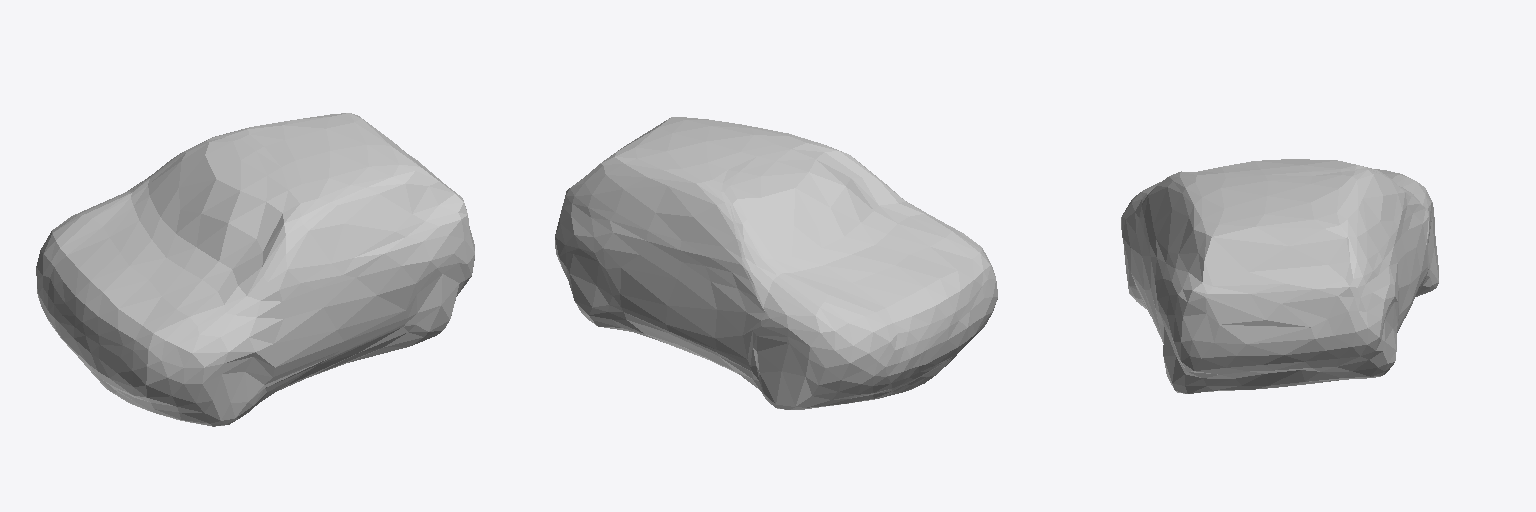
Rendered from video3_310.obj.
The picture shows the model from 3 angles: view 1: azimuth 30°, elevation 25°; view 2: azimuth 150°, elevation 25°; view 3: azimuth 270°, elevation 25°; orthographic projection.
Bounding box in the file's own units: 1 × 0.4984 × 0.7553.